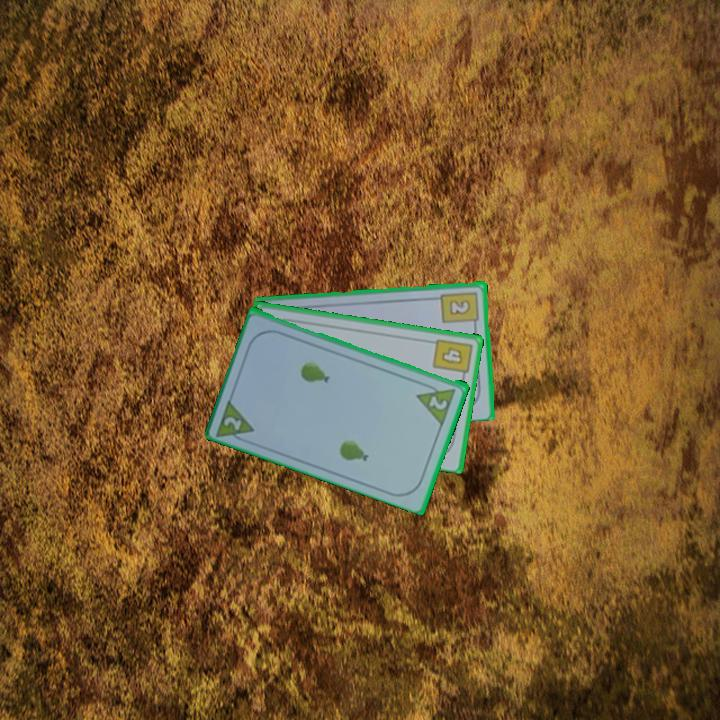2b: (438, 288, 482, 330)
2p: (426, 392, 451, 413), (220, 413, 245, 433)
4b: (429, 335, 475, 382)
